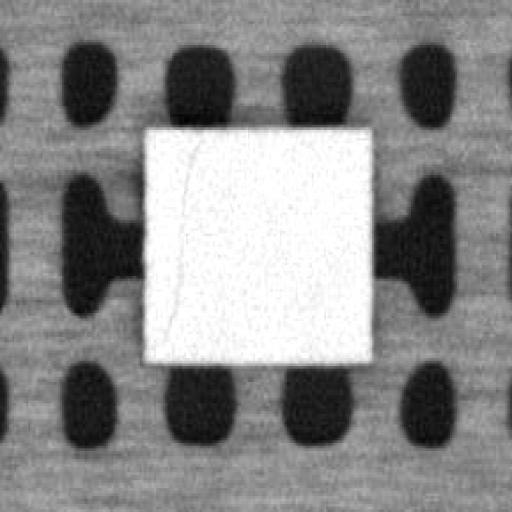DIE_CRACK: (158, 135, 207, 345)
